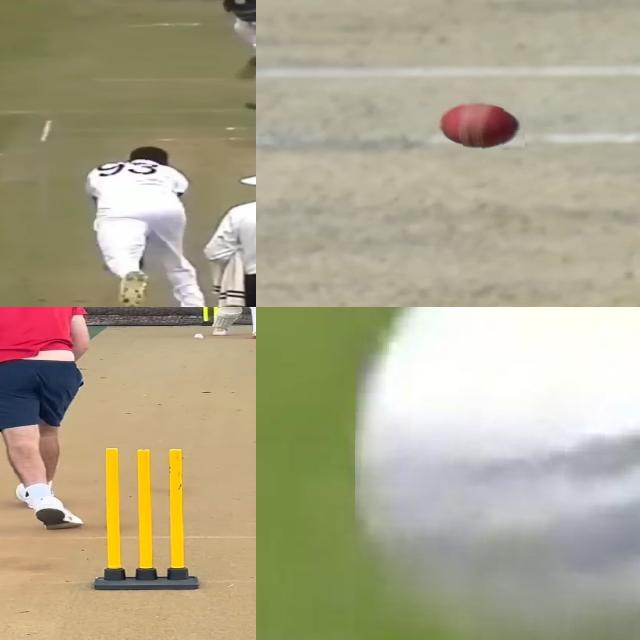Cricket ball: (355, 307, 640, 640), (436, 96, 527, 150), (243, 98, 256, 111), (192, 332, 206, 340)
Stumps: (93, 446, 203, 592)
